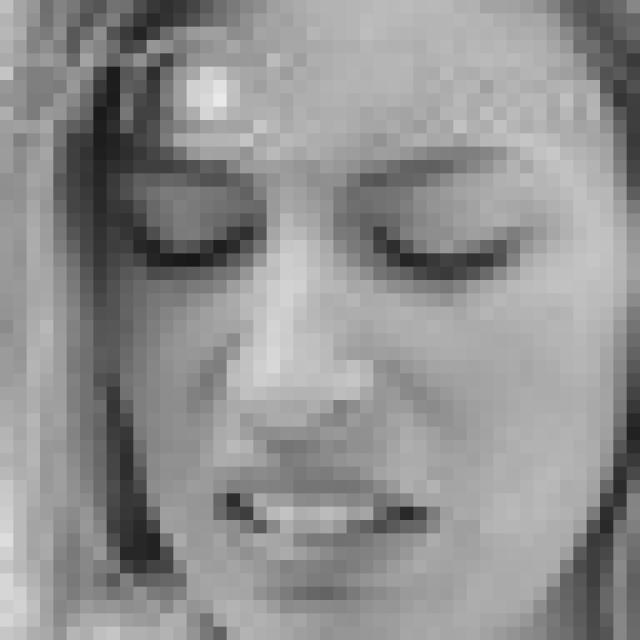disgust: (109, 118, 550, 597)
